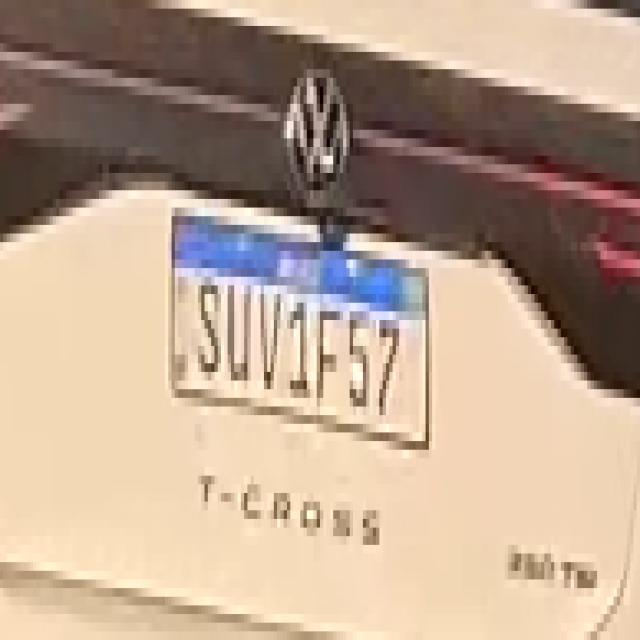Placa_mercosul_carro: (170, 198, 430, 450)
